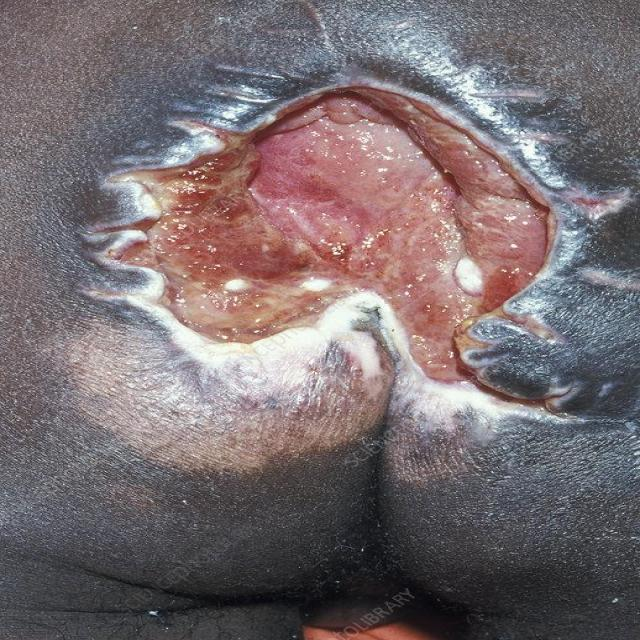stage-4: (120, 89, 548, 381)
